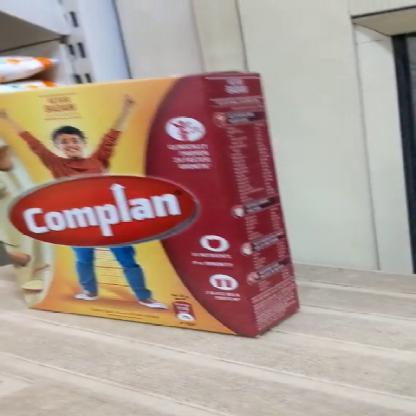Complan Kesar Badam: (2, 69, 312, 342)
